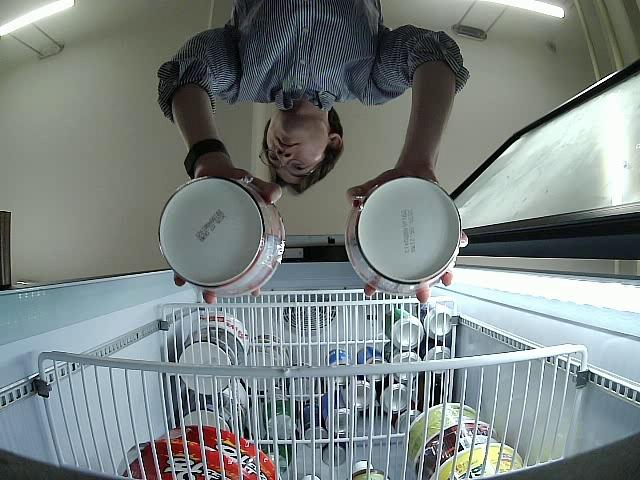00_hand: (348, 168, 469, 302), (171, 170, 283, 305)
01_shinRamen_L: (160, 176, 286, 297), (345, 177, 462, 293)
